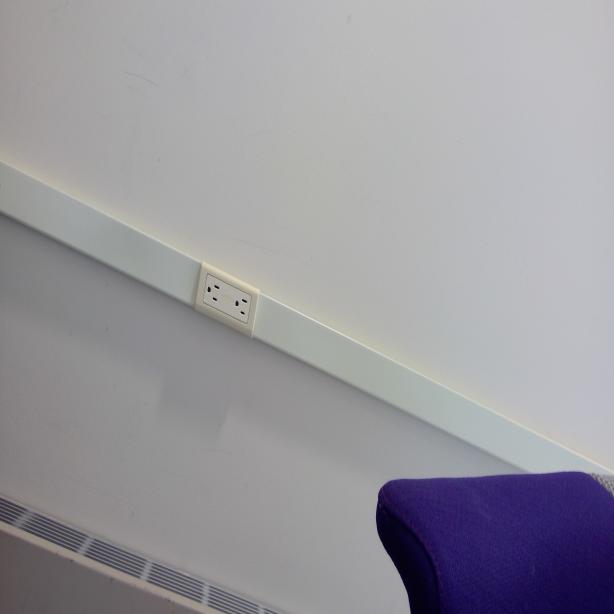typeb: (205, 278, 224, 308), (231, 291, 250, 321)
